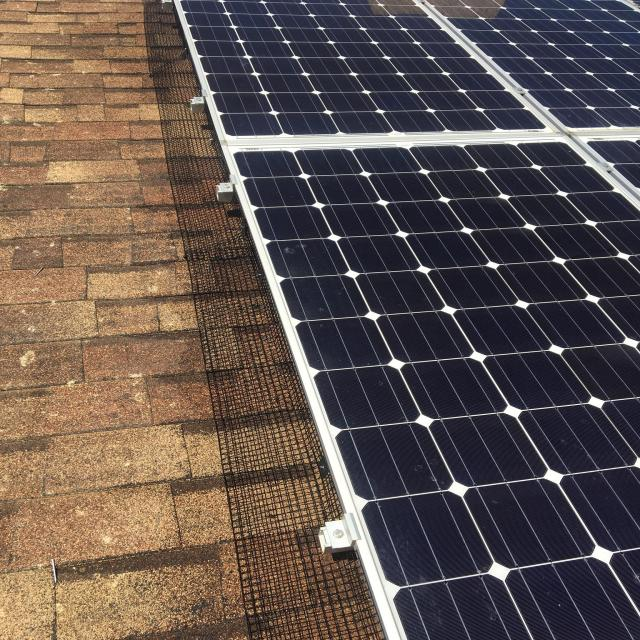clean-solar-panel: (175, 0, 638, 640)
